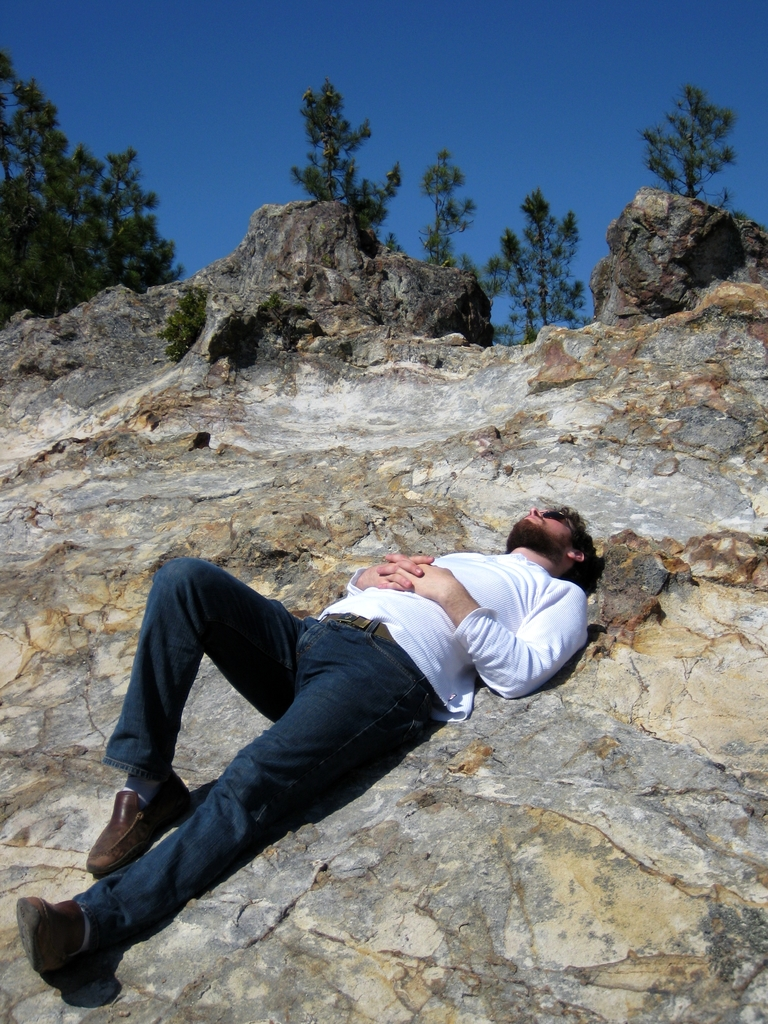Tree: (0, 44, 742, 346)
